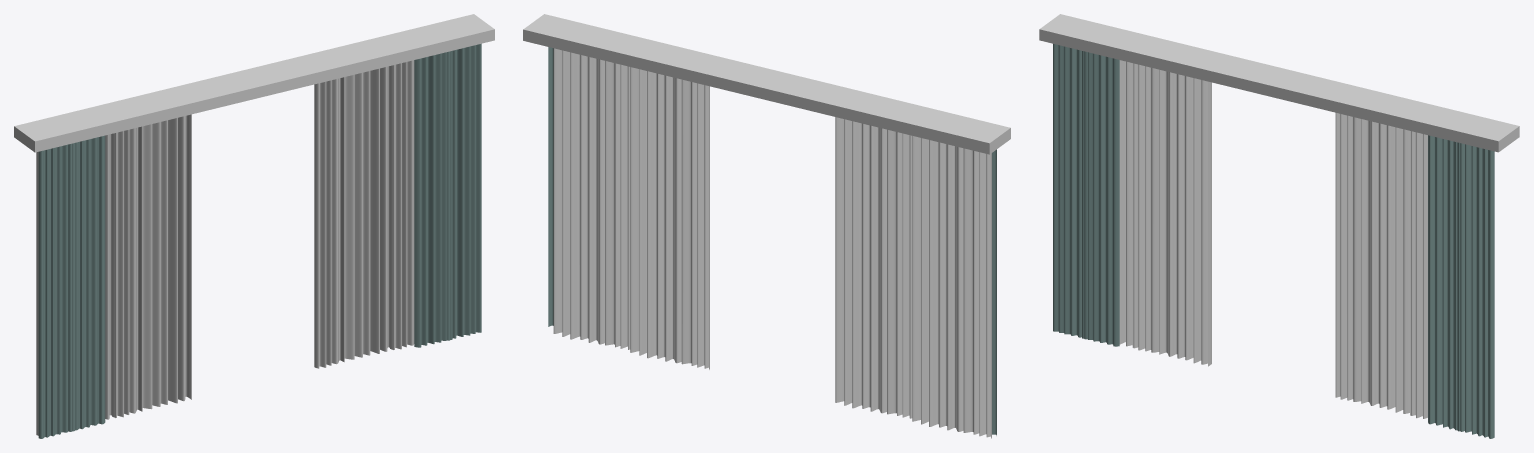
Rendered from curtain.gltf.
3 views of the same model, side by side, from view 1: azimuth 30°, elevation 25°; view 2: azimuth 150°, elevation 25°; view 3: azimuth 330°, elevation 25° (orthographic).
Parts seen in each view (by area): view 1: TÜL; view 2: TÜL; view 3: TÜL.
Part boxes in pixels (<box>): TÜL: <box>14,14,494,438</box>; TÜL: <box>523,14,1010,438</box>; TÜL: <box>1039,14,1519,438</box>.
Bounding box in the file's own units: 3.98 × 2.5 × 0.3131.
